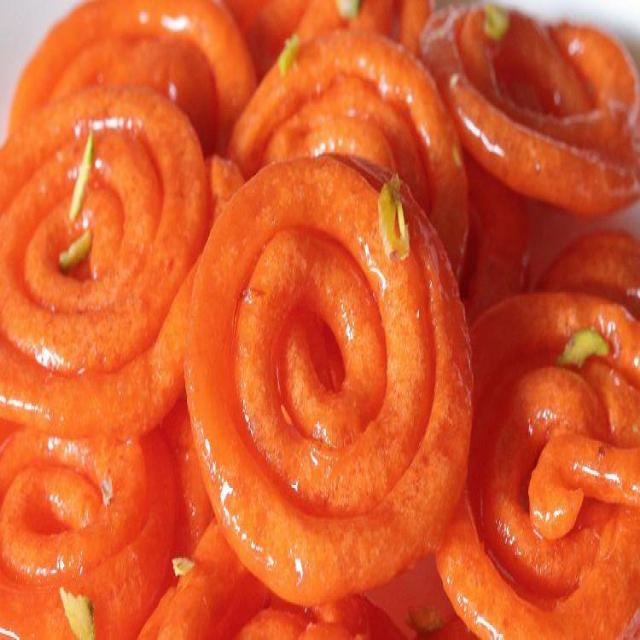jalebi: (9, 18, 640, 640)
